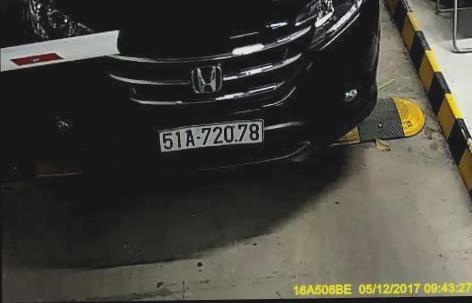License_Plate: (157, 120, 266, 154)
